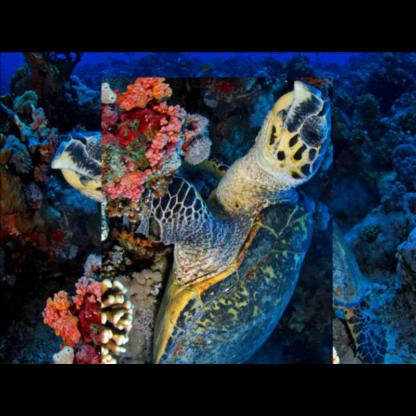turtle: (74, 103, 359, 363)
